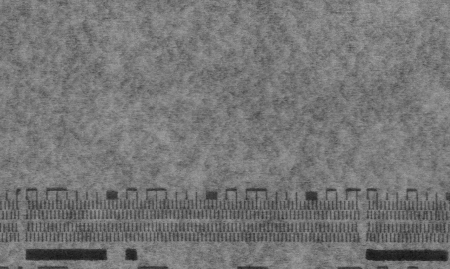Oblique printing: (417, 209, 431, 221)
